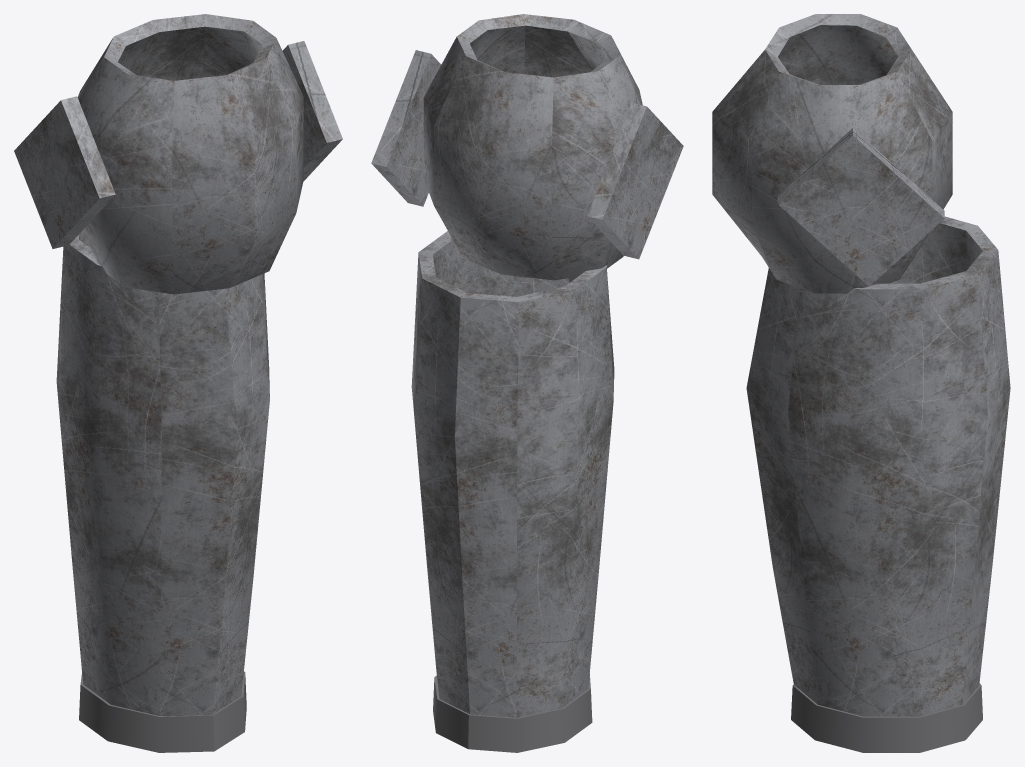
Rendered from armor_shin.glb.
The picture shows the model from 3 angles, left to right: view 1: azimuth 30°, elevation 25°; view 2: azimuth 150°, elevation 25°; view 3: azimuth 270°, elevation 25°; orthographic projection. The views are drawn at different scales.
Parts seen in each view (by area): view 1: ArmorShin; view 2: ArmorShin; view 3: ArmorShin.
Boxes of the visible parts, x1=… form: ArmorShin: x1=14, y1=14, x2=342, y2=752; ArmorShin: x1=371, y1=14, x2=683, y2=752; ArmorShin: x1=712, y1=14, x2=1010, y2=752.
Bounding box in the file's own units: 0.18 × 0.4853 × 0.1955.
2 materials, 1 textured.
